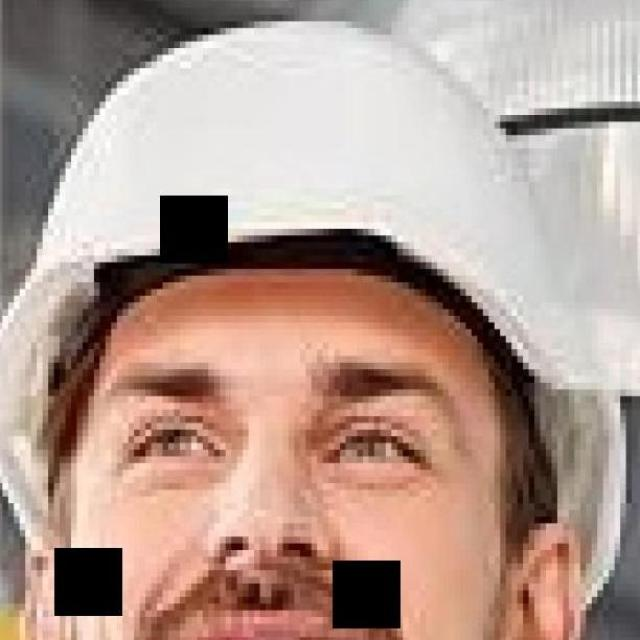white helmet: (1, 12, 640, 625)
